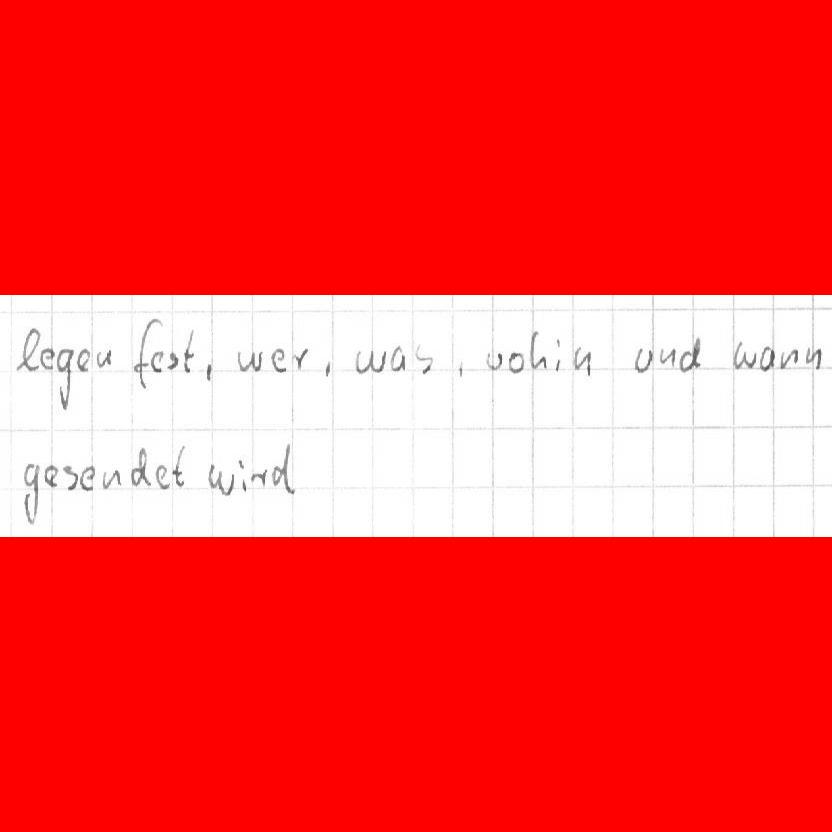Char: (131, 320, 152, 393), (272, 441, 296, 493), (21, 462, 39, 524), (56, 346, 73, 410), (17, 324, 39, 373), (355, 346, 386, 376), (679, 336, 703, 373), (208, 461, 234, 495), (130, 446, 150, 490), (529, 329, 547, 371), (236, 347, 264, 373), (181, 328, 197, 372), (572, 344, 593, 376), (172, 444, 187, 487), (415, 347, 435, 376), (632, 345, 652, 373), (734, 340, 754, 368), (78, 463, 97, 492), (102, 466, 124, 490), (269, 346, 288, 373), (59, 463, 78, 490), (249, 464, 268, 489), (390, 344, 406, 373), (805, 344, 823, 369), (657, 345, 676, 368), (95, 347, 114, 370), (778, 346, 797, 369), (42, 463, 59, 488), (75, 346, 91, 372), (294, 346, 310, 372), (758, 345, 774, 371), (507, 349, 525, 372), (484, 349, 502, 372), (153, 465, 170, 489), (552, 338, 564, 372), (236, 456, 247, 492), (39, 347, 54, 372), (149, 350, 164, 373), (203, 360, 215, 384), (165, 351, 180, 370), (455, 360, 466, 379), (322, 359, 332, 379)
